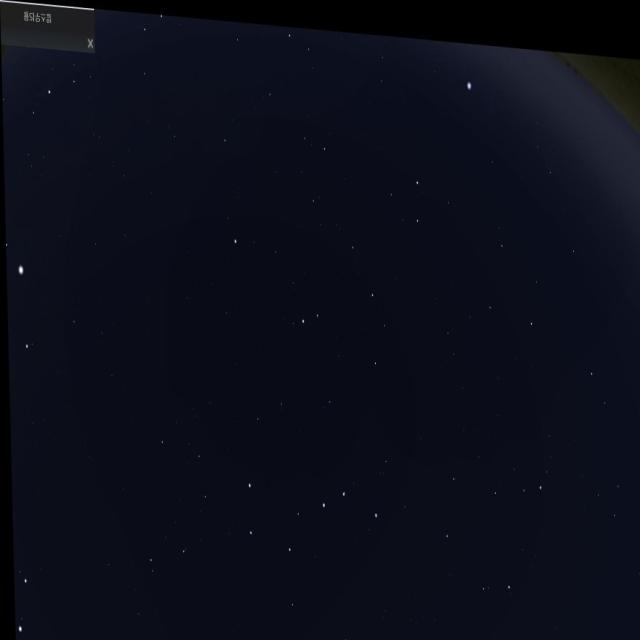ursa_major: (243, 454, 384, 562)
